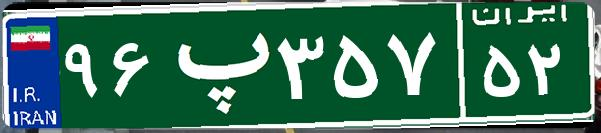2: (525, 38, 570, 115)
3: (273, 28, 330, 110)
5: (330, 28, 385, 110), (475, 38, 525, 113)
6: (110, 28, 158, 105)
7: (385, 28, 445, 110)
9: (57, 26, 110, 107)
پ: (158, 15, 273, 115)
